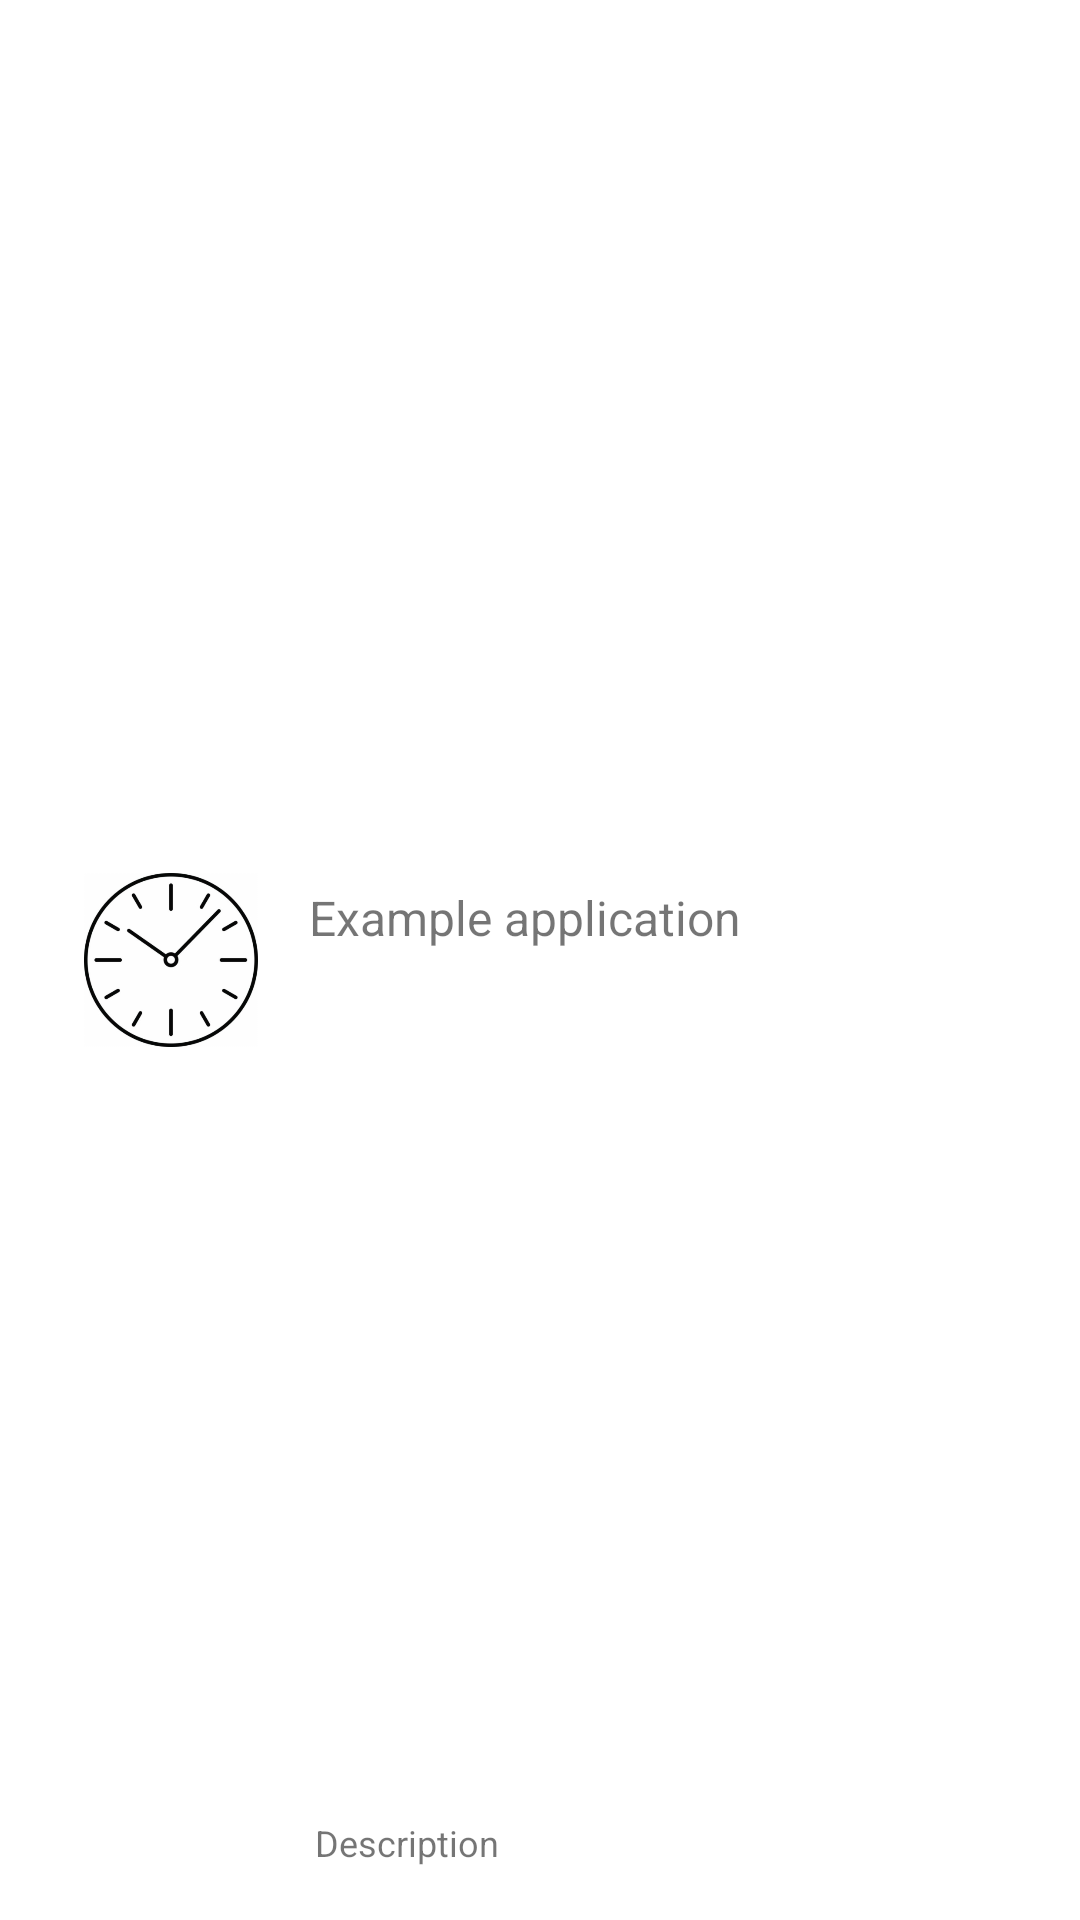

Named icons in this screenshot (1080px×1920px) and their centers, [x,y]:
clock: [171,960]
